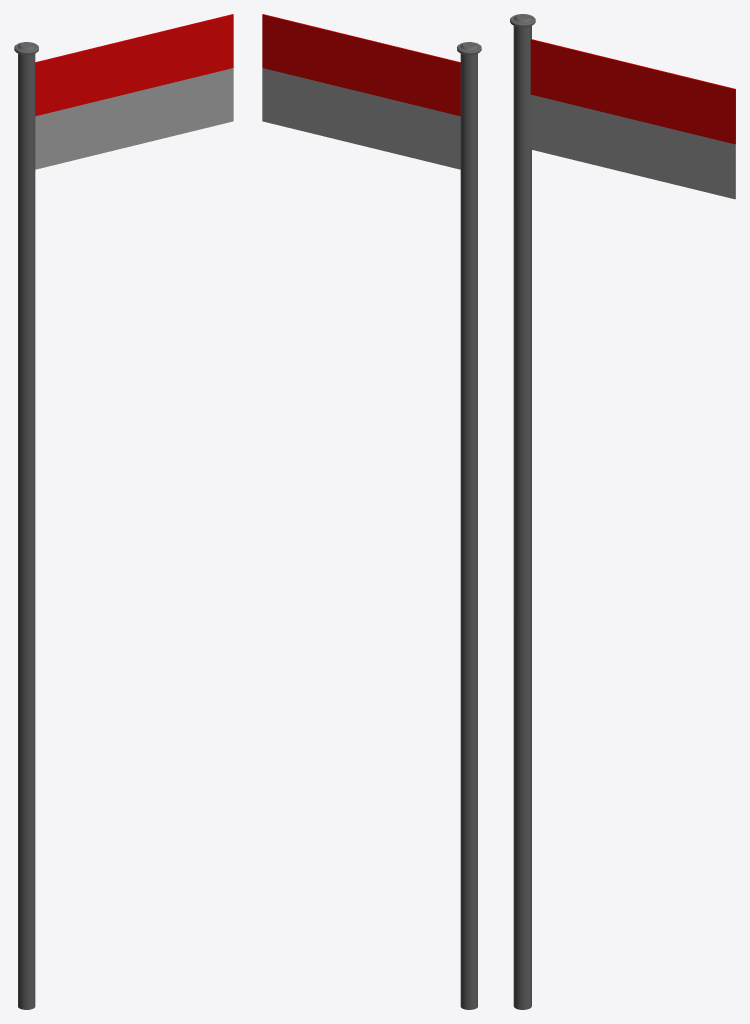
The model's file is MonacoFlag.fbx.
The picture shows the model from 3 angles, left to right: view 1: azimuth 30°, elevation 25°; view 2: azimuth 150°, elevation 25°; view 3: azimuth 330°, elevation 25°; orthographic projection. The views are drawn at different scales.
Parts seen in each view (by area): view 1: pCube12; view 2: pCube12; view 3: pCube12.
Boxes of the visible parts, x1=… form: pCube12: x1=14, y1=14, x2=233, y2=1009; pCube12: x1=262, y1=14, x2=481, y2=1009; pCube12: x1=510, y1=14, x2=735, y2=1009.
Bounding box in the file's own units: 2.13 × 9 × 0.2126.
